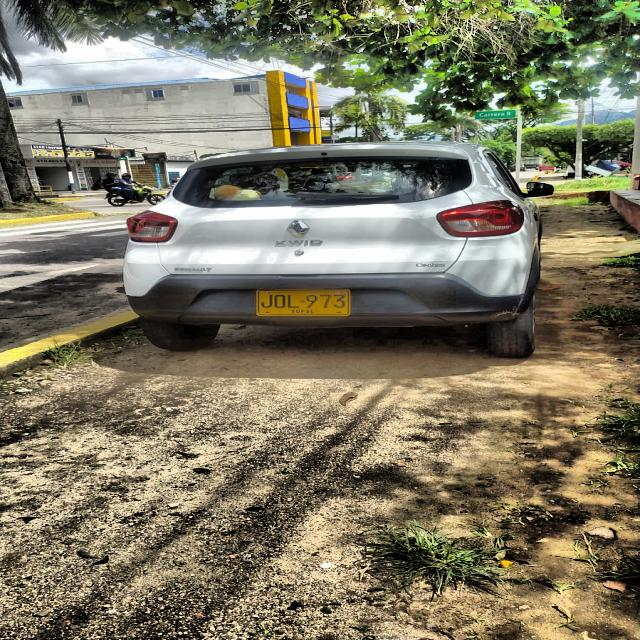plate: (258, 290, 349, 315)
